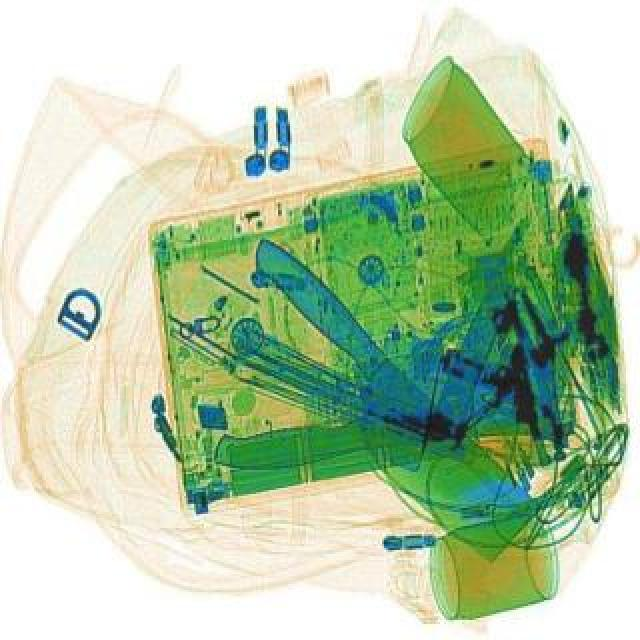knife: (206, 222, 550, 568), (202, 330, 570, 480)
